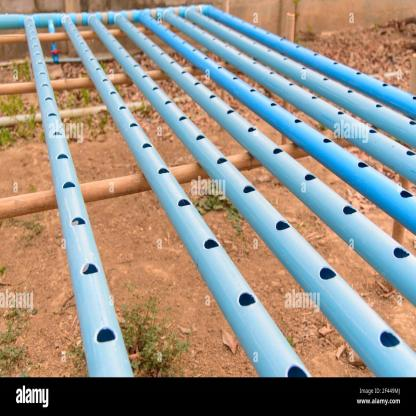PVC: (87, 12, 416, 381), (59, 11, 313, 389), (113, 12, 416, 307), (139, 7, 416, 235), (158, 8, 416, 184), (23, 18, 138, 380), (185, 7, 416, 147), (200, 3, 416, 120), (0, 1, 213, 28), (45, 20, 64, 63)
